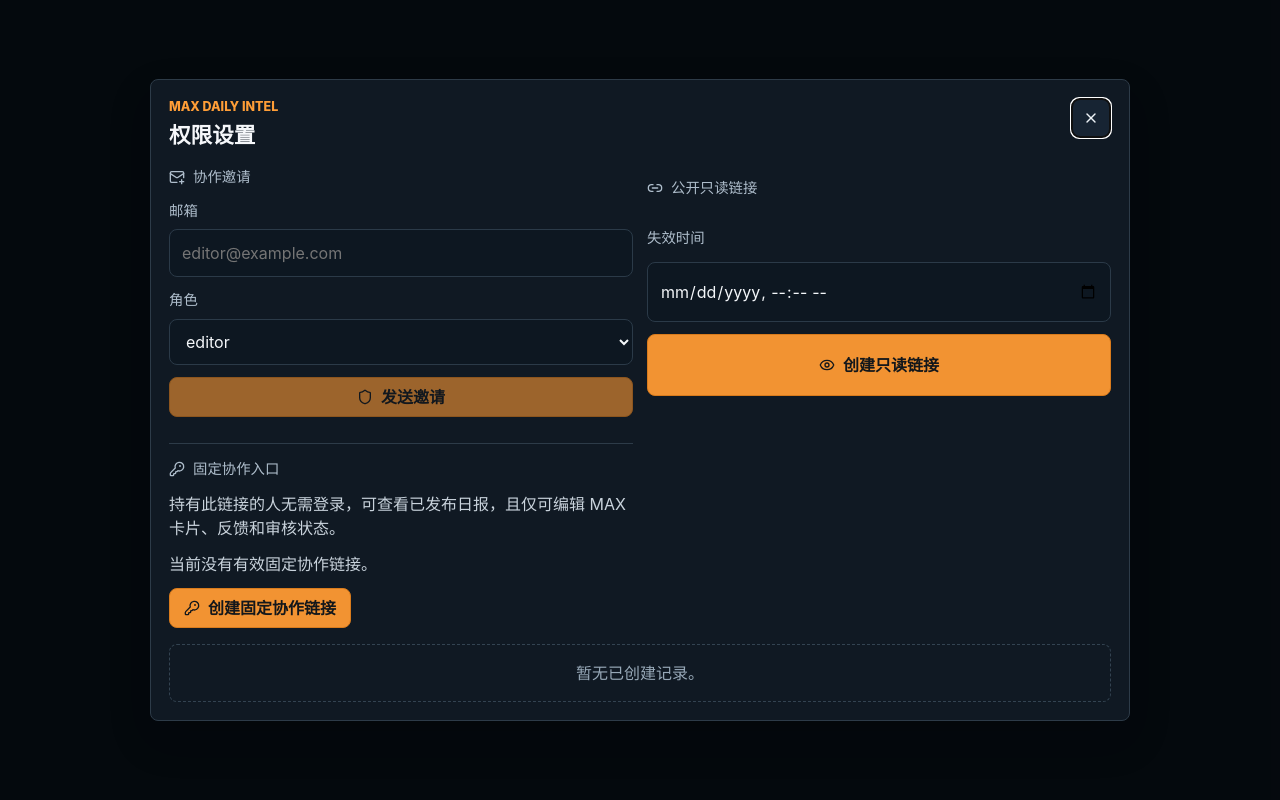
Test case: ShareDialog fixed collaboration link management › creates one permanent collaboration link, labels its scope, and copies it once
Expected: the text "固定协作入口" is shown, left=169, top=460, right=279, bottom=477
Expected: the text "持有此链接的人无需登录，可查看已发布日报，且仅可编辑 MAX 卡片、反馈和审核状态。" is shown, left=169, top=492, right=633, bottom=540
Click the button "创建固定协作链接": (260, 608) left=169, top=588, right=351, bottom=628
(page scrolled)
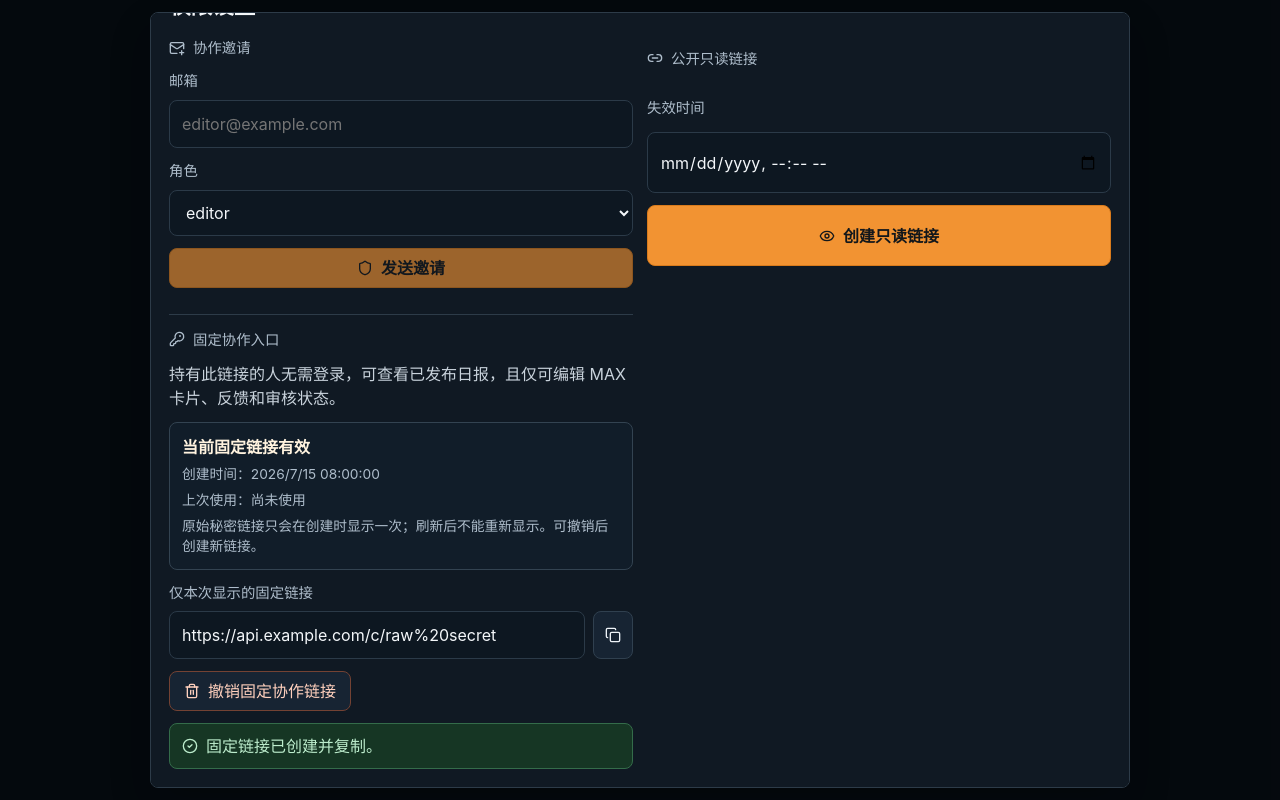
Now the field showing "https://api.example.com/c/raw%20secret" is shown, box left=169, top=612, right=585, bottom=660
Now the text "固定链接已创建并复制。" is shown, box left=169, top=724, right=633, bottom=770
